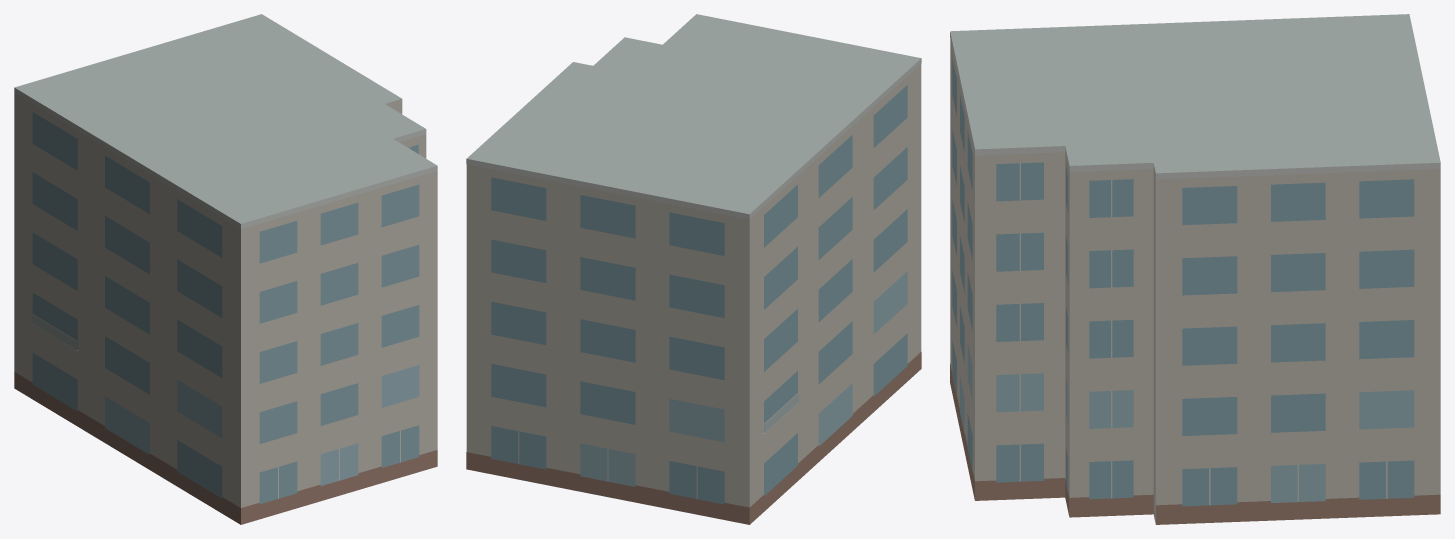
Rendered from survey-upis-32905691.glb.
The picture shows the model from 3 angles, left to right: view 1: azimuth 30°, elevation 25°; view 2: azimuth 150°, elevation 25°; view 3: azimuth 270°, elevation 25°; orthographic projection. The views are drawn at different scales.
Parts seen in each view (by area): view 1: survey-upis-32905691.tmp; view 2: survey-upis-32905691.tmp; view 3: survey-upis-32905691.tmp.
Part boxes in pixels (box(x1,y1,x2,y2)): survey-upis-32905691.tmp: box(14, 14, 437, 524); survey-upis-32905691.tmp: box(466, 14, 921, 524); survey-upis-32905691.tmp: box(950, 14, 1440, 524).
Size of the model in its own units: 13.52 by 13.9 by 17.59.
